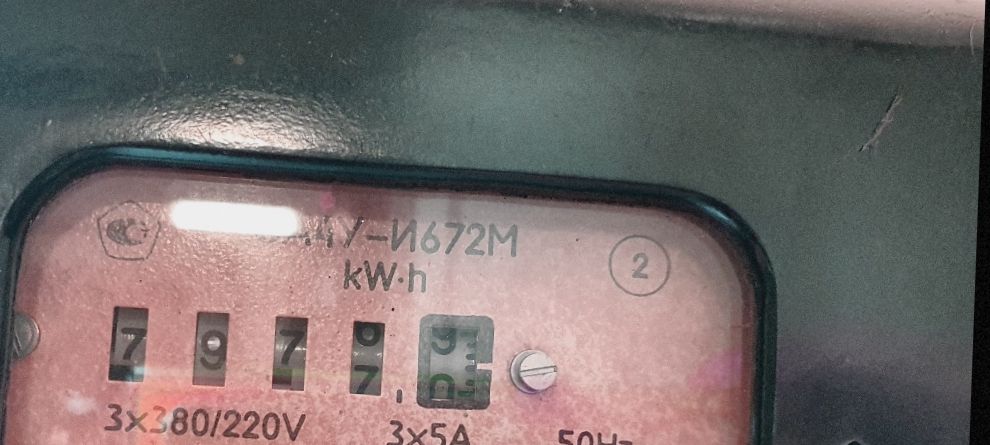0: (424, 367, 458, 407)
7: (274, 325, 306, 369), (115, 323, 147, 366), (349, 361, 380, 397)
9: (194, 326, 230, 372), (427, 320, 459, 356)
screen: (87, 282, 519, 433)
